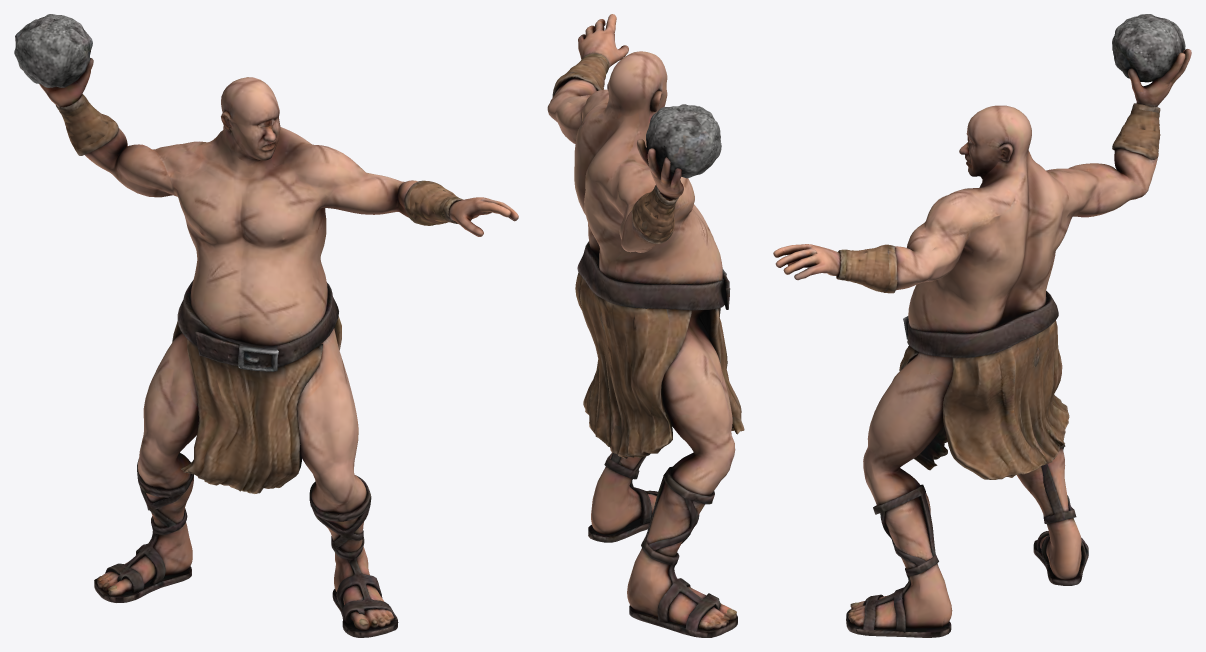
The model's file is MZ4250 - Cyclops Sentry_Boulder_2025.glb.
3 views of the same model, side by side, from view 1: azimuth 30°, elevation 25°; view 2: azimuth 150°, elevation 25°; view 3: azimuth 270°, elevation 25° (orthographic). The views are drawn at different scales.
Parts seen in each view (by area): view 1: Cyclops Sentry.001; view 2: Cyclops Sentry.001; view 3: Cyclops Sentry.001.
Boxes of the visible parts, x1,y1,x2,y2 form: Cyclops Sentry.001: (14,14,518,637); Cyclops Sentry.001: (547,14,744,637); Cyclops Sentry.001: (773,14,1191,637).
Bounding box in the file's own units: 158 × 261 × 189.
1 material, 1 textured.
